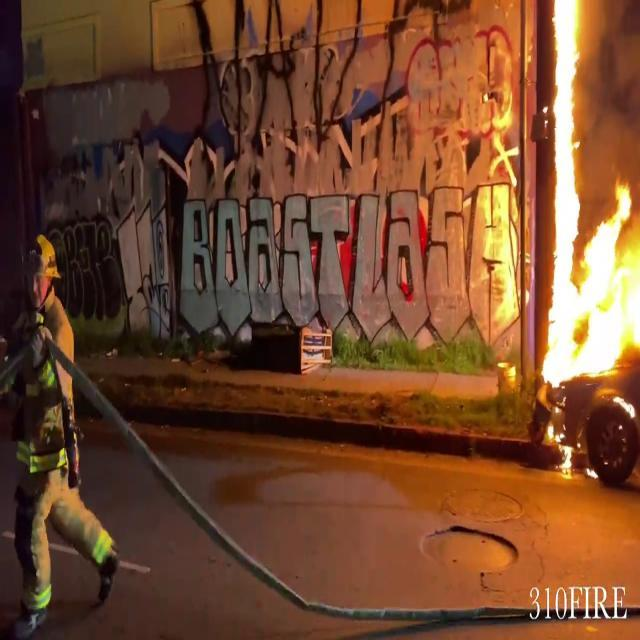Fire: (540, 4, 640, 392)
